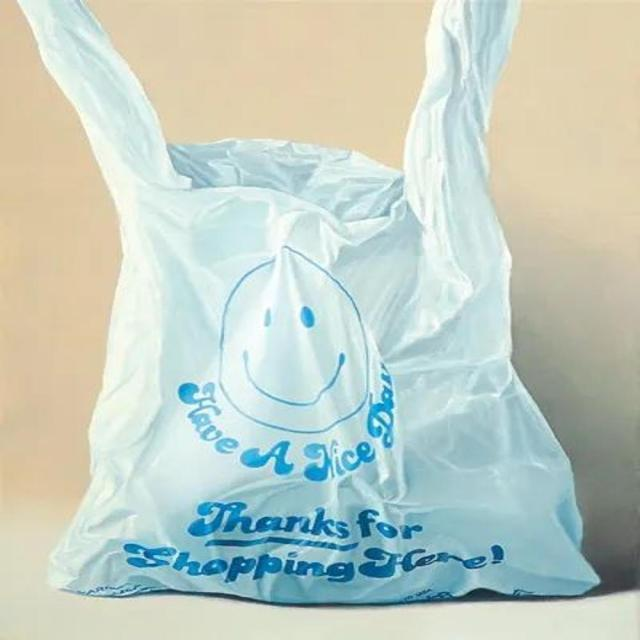Plastic_Bag: (31, 0, 605, 604)
